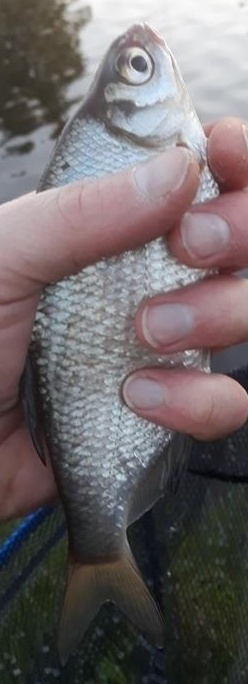Abramis brama: (20, 20, 228, 664)
